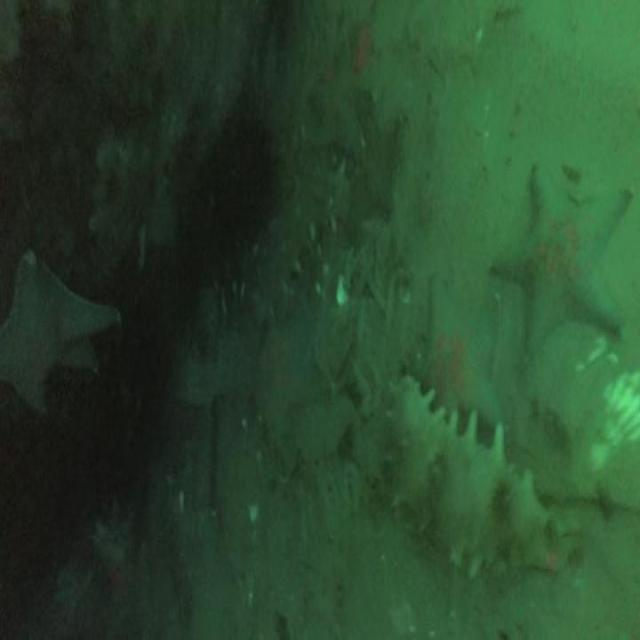echinus: (203, 107, 271, 235)
holothurian: (392, 376, 550, 583), (241, 185, 317, 316)
scallop: (543, 324, 640, 502)
starfish: (493, 156, 631, 354), (1, 251, 120, 414), (408, 278, 506, 424), (259, 308, 319, 430), (311, 44, 377, 154)
